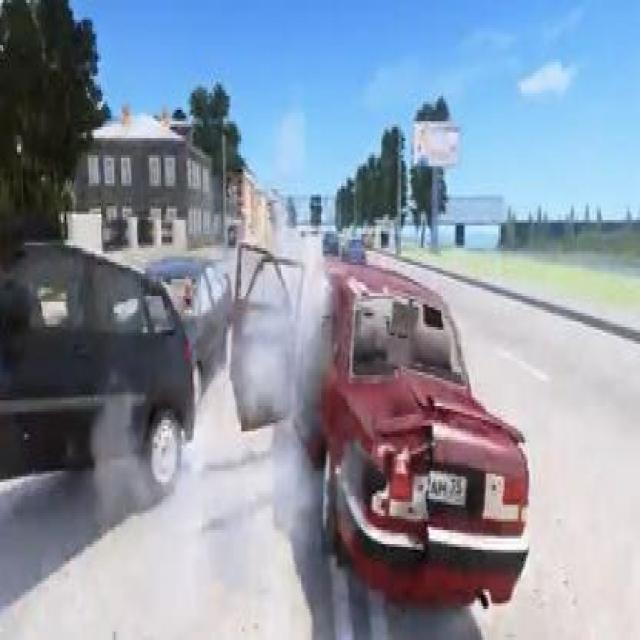accident: (0, 228, 529, 634)
